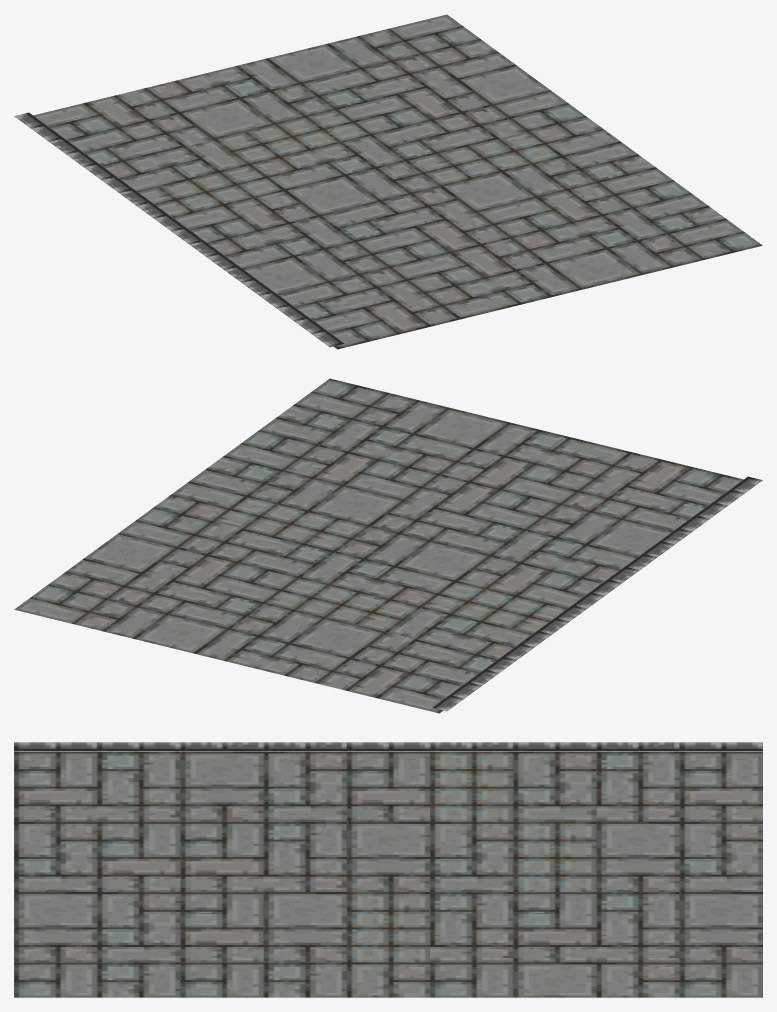
File: ObjMD_Seido_Floor_A.FBX
The picture shows the model from 3 angles, top to bottom: view 1: azimuth 30°, elevation 25°; view 2: azimuth 150°, elevation 25°; view 3: azimuth 270°, elevation 25°; orthographic projection. The views are drawn at different scales.
Parts seen in each view (by area): view 1: ObjMD_Seido_Floor_A; view 2: ObjMD_Seido_Floor_A; view 3: ObjMD_Seido_Floor_A.
Part boxes in pixels (bbox=[...]): ObjMD_Seido_Floor_A: bbox=[14, 14, 762, 349]; ObjMD_Seido_Floor_A: bbox=[14, 378, 762, 713]; ObjMD_Seido_Floor_A: bbox=[14, 742, 762, 997].
Bounding box in the file's own units: 712 × 6.25 × 900.
